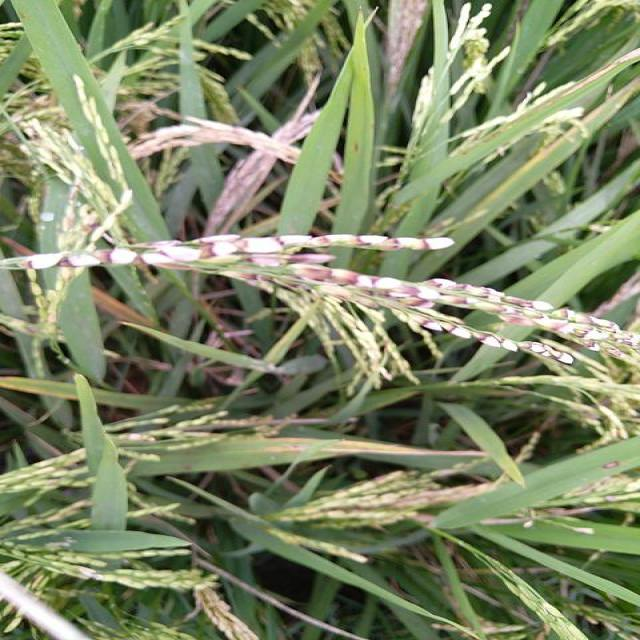Panicle Blight: (5, 235, 639, 366)
